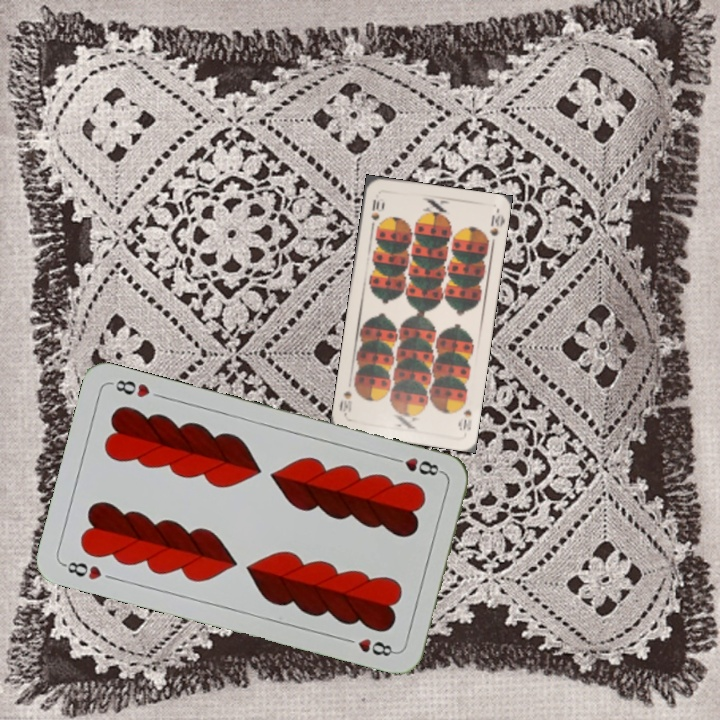H8: (387, 453, 445, 479), (59, 557, 104, 583)
S10: (455, 394, 475, 433), (367, 195, 385, 231)
